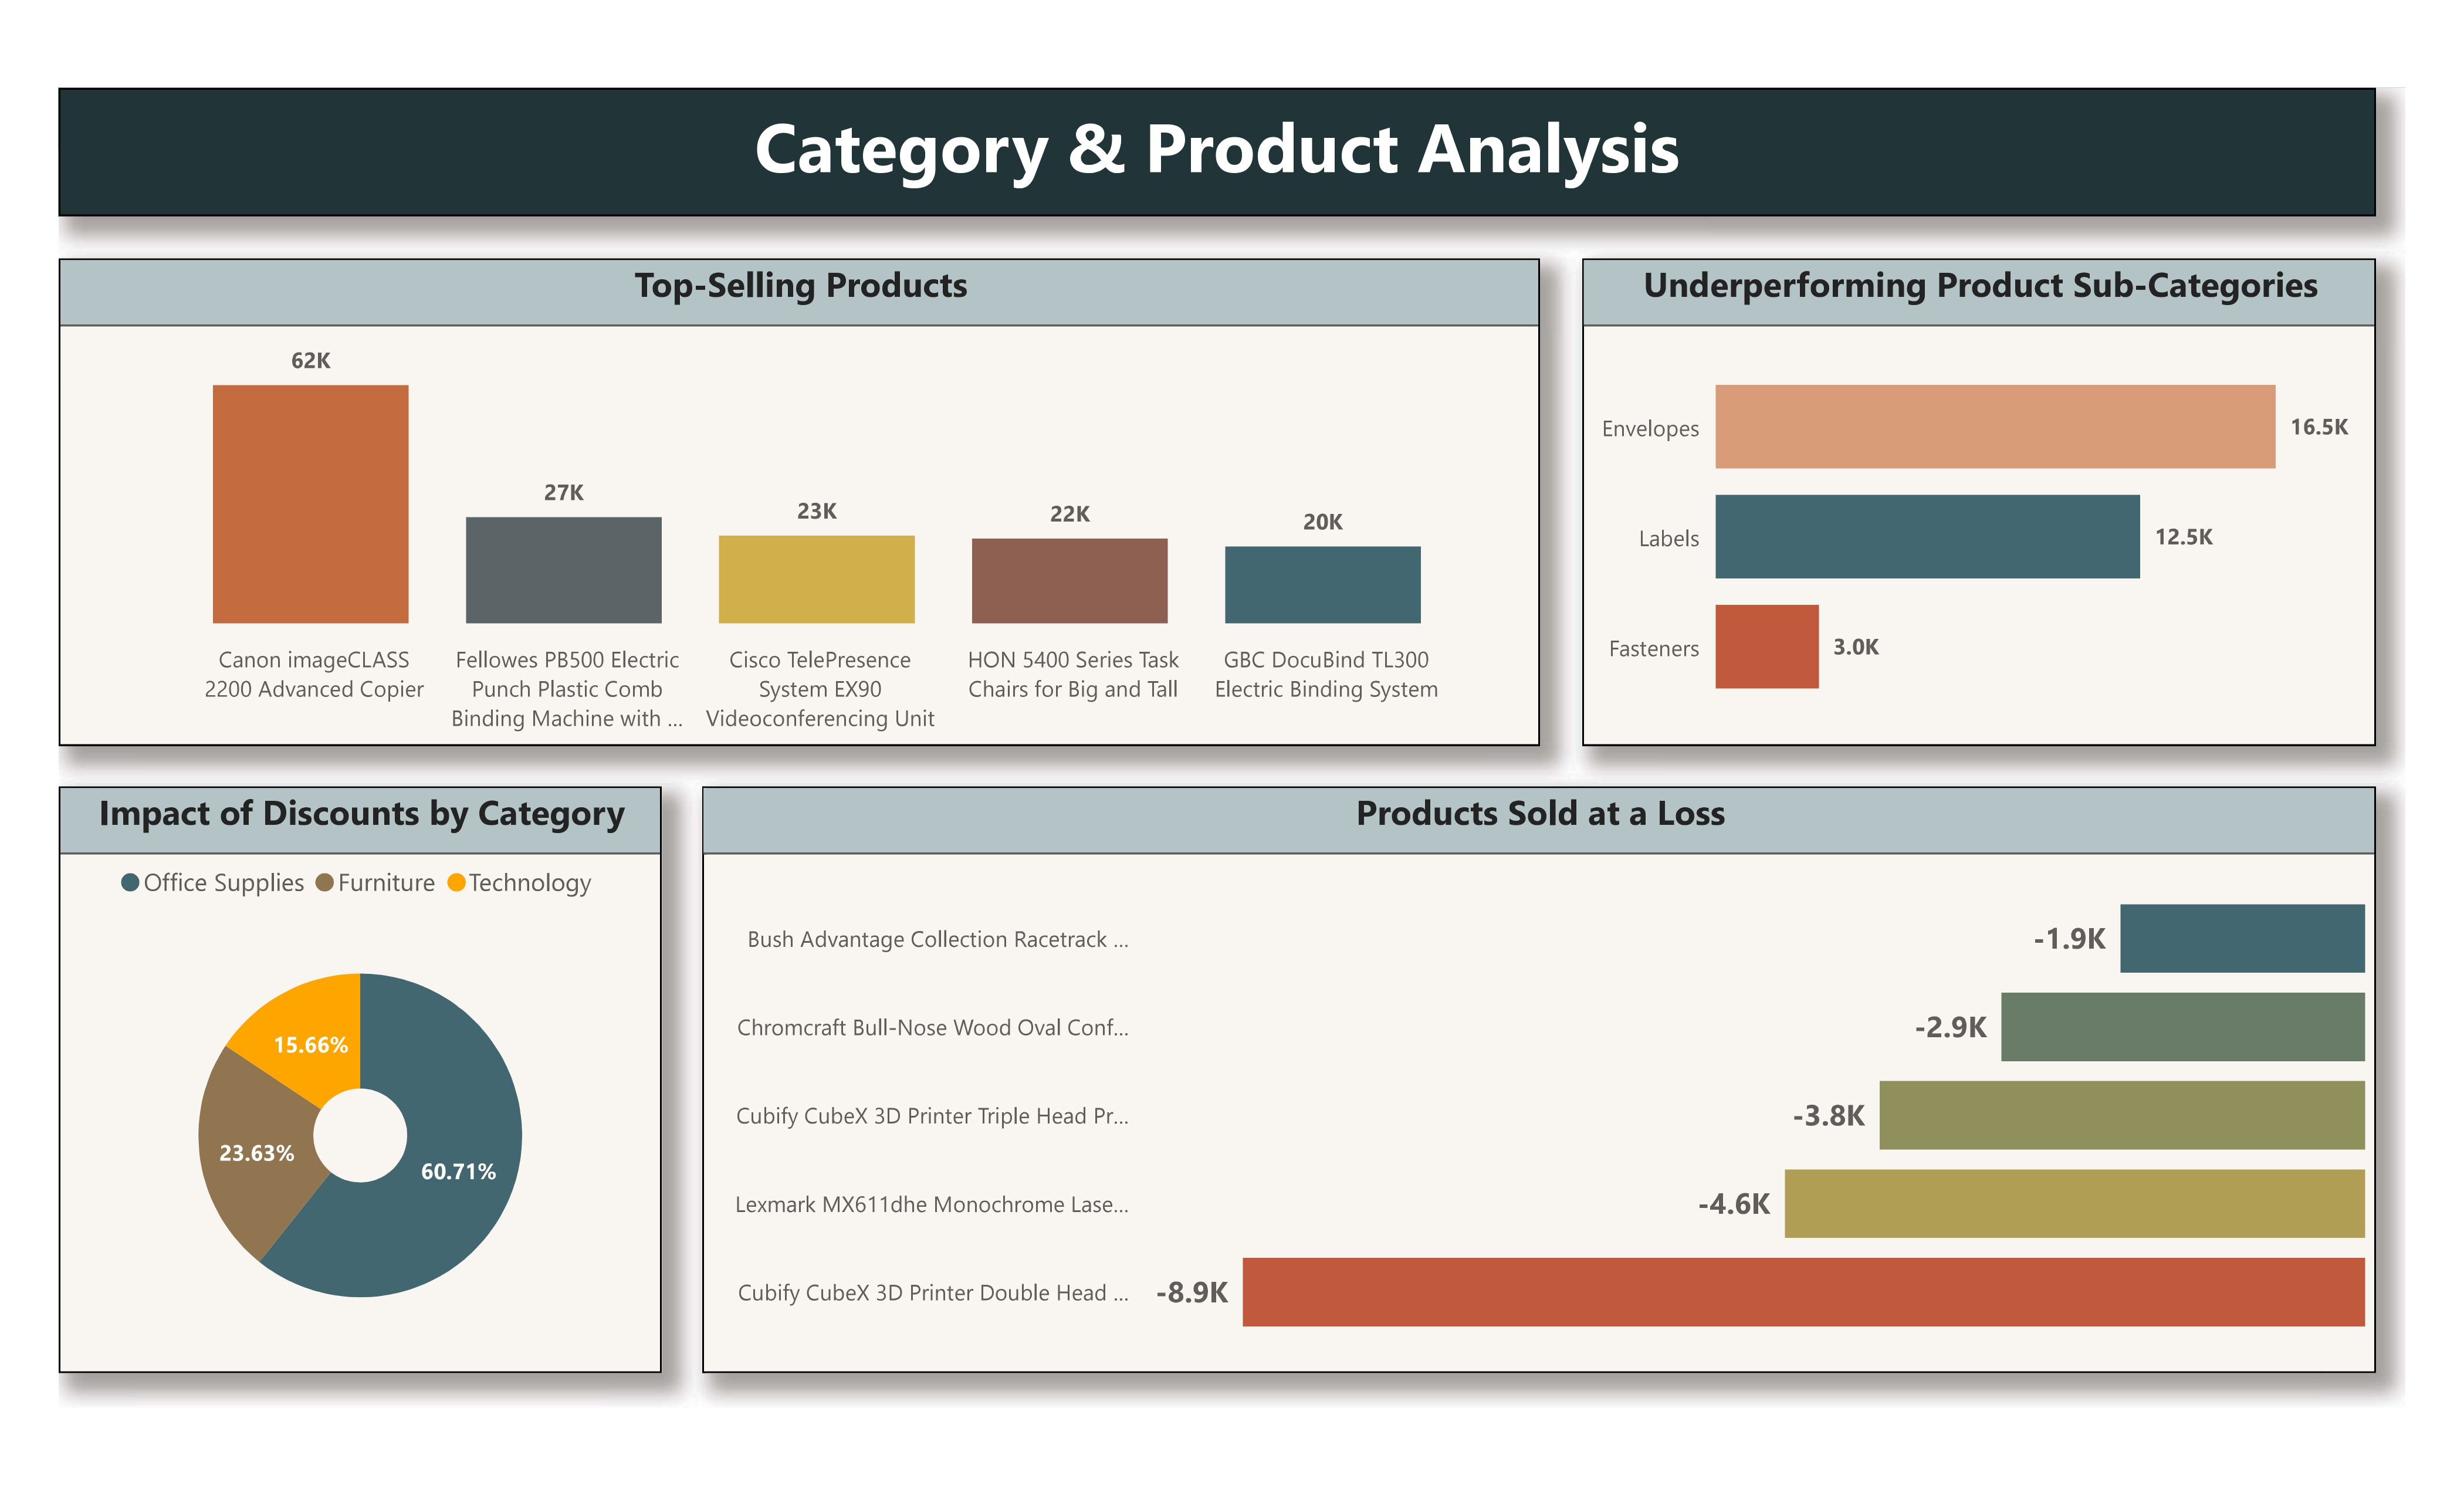

What the dashboard file says about the page in this screenshot:
{"tool":"powerbi","page":{"name":"Category & Product Analysis","canvas":[1280,720],"ordinal":4},"visuals":[{"type":"textbox","box":[0,0,1263.8,69.9],"z":0},{"type":"clusteredColumnChart","title":"Top-Selling Products","fields":{"Category":["Orders.Product Name"],"Y":["Sum(Orders.Sales)"]},"box":[0,92.7,808.4,266.8],"z":1000},{"type":"clusteredBarChart","title":"Underperforming Product Sub-Categories","fields":{"Category":["Orders.Sub-Category"],"Y":["Sum(Orders.Sales)"]},"box":[831.2,92.7,432.7,266.8],"z":2000},{"type":"clusteredBarChart","title":"Products Sold at a Loss","fields":{"Y":["Sum(Orders.Profit)"],"Category":["Orders.Product Name"]},"box":[351.3,380.6,912.5,320.4],"z":3000},{"type":"pieChart","title":"Impact of Discounts by Category","fields":{"Category":["Orders.Category"],"Y":["Sum(Orders.Discount)"]},"box":[0,380.6,328.6,320.4],"z":4000}]}

Visuals, with their boxes in screenshot pixels (x1, y1, x2, y2):
textbox: 52/77/2365/205
"Top-Selling Products" clusteredColumnChart: 52/247/1532/735
"Underperforming Product Sub-Categories" clusteredBarChart: 1573/247/2365/735
"Products Sold at a Loss" clusteredBarChart: 695/774/2365/1360
"Impact of Discounts by Category" pieChart: 52/774/653/1360
